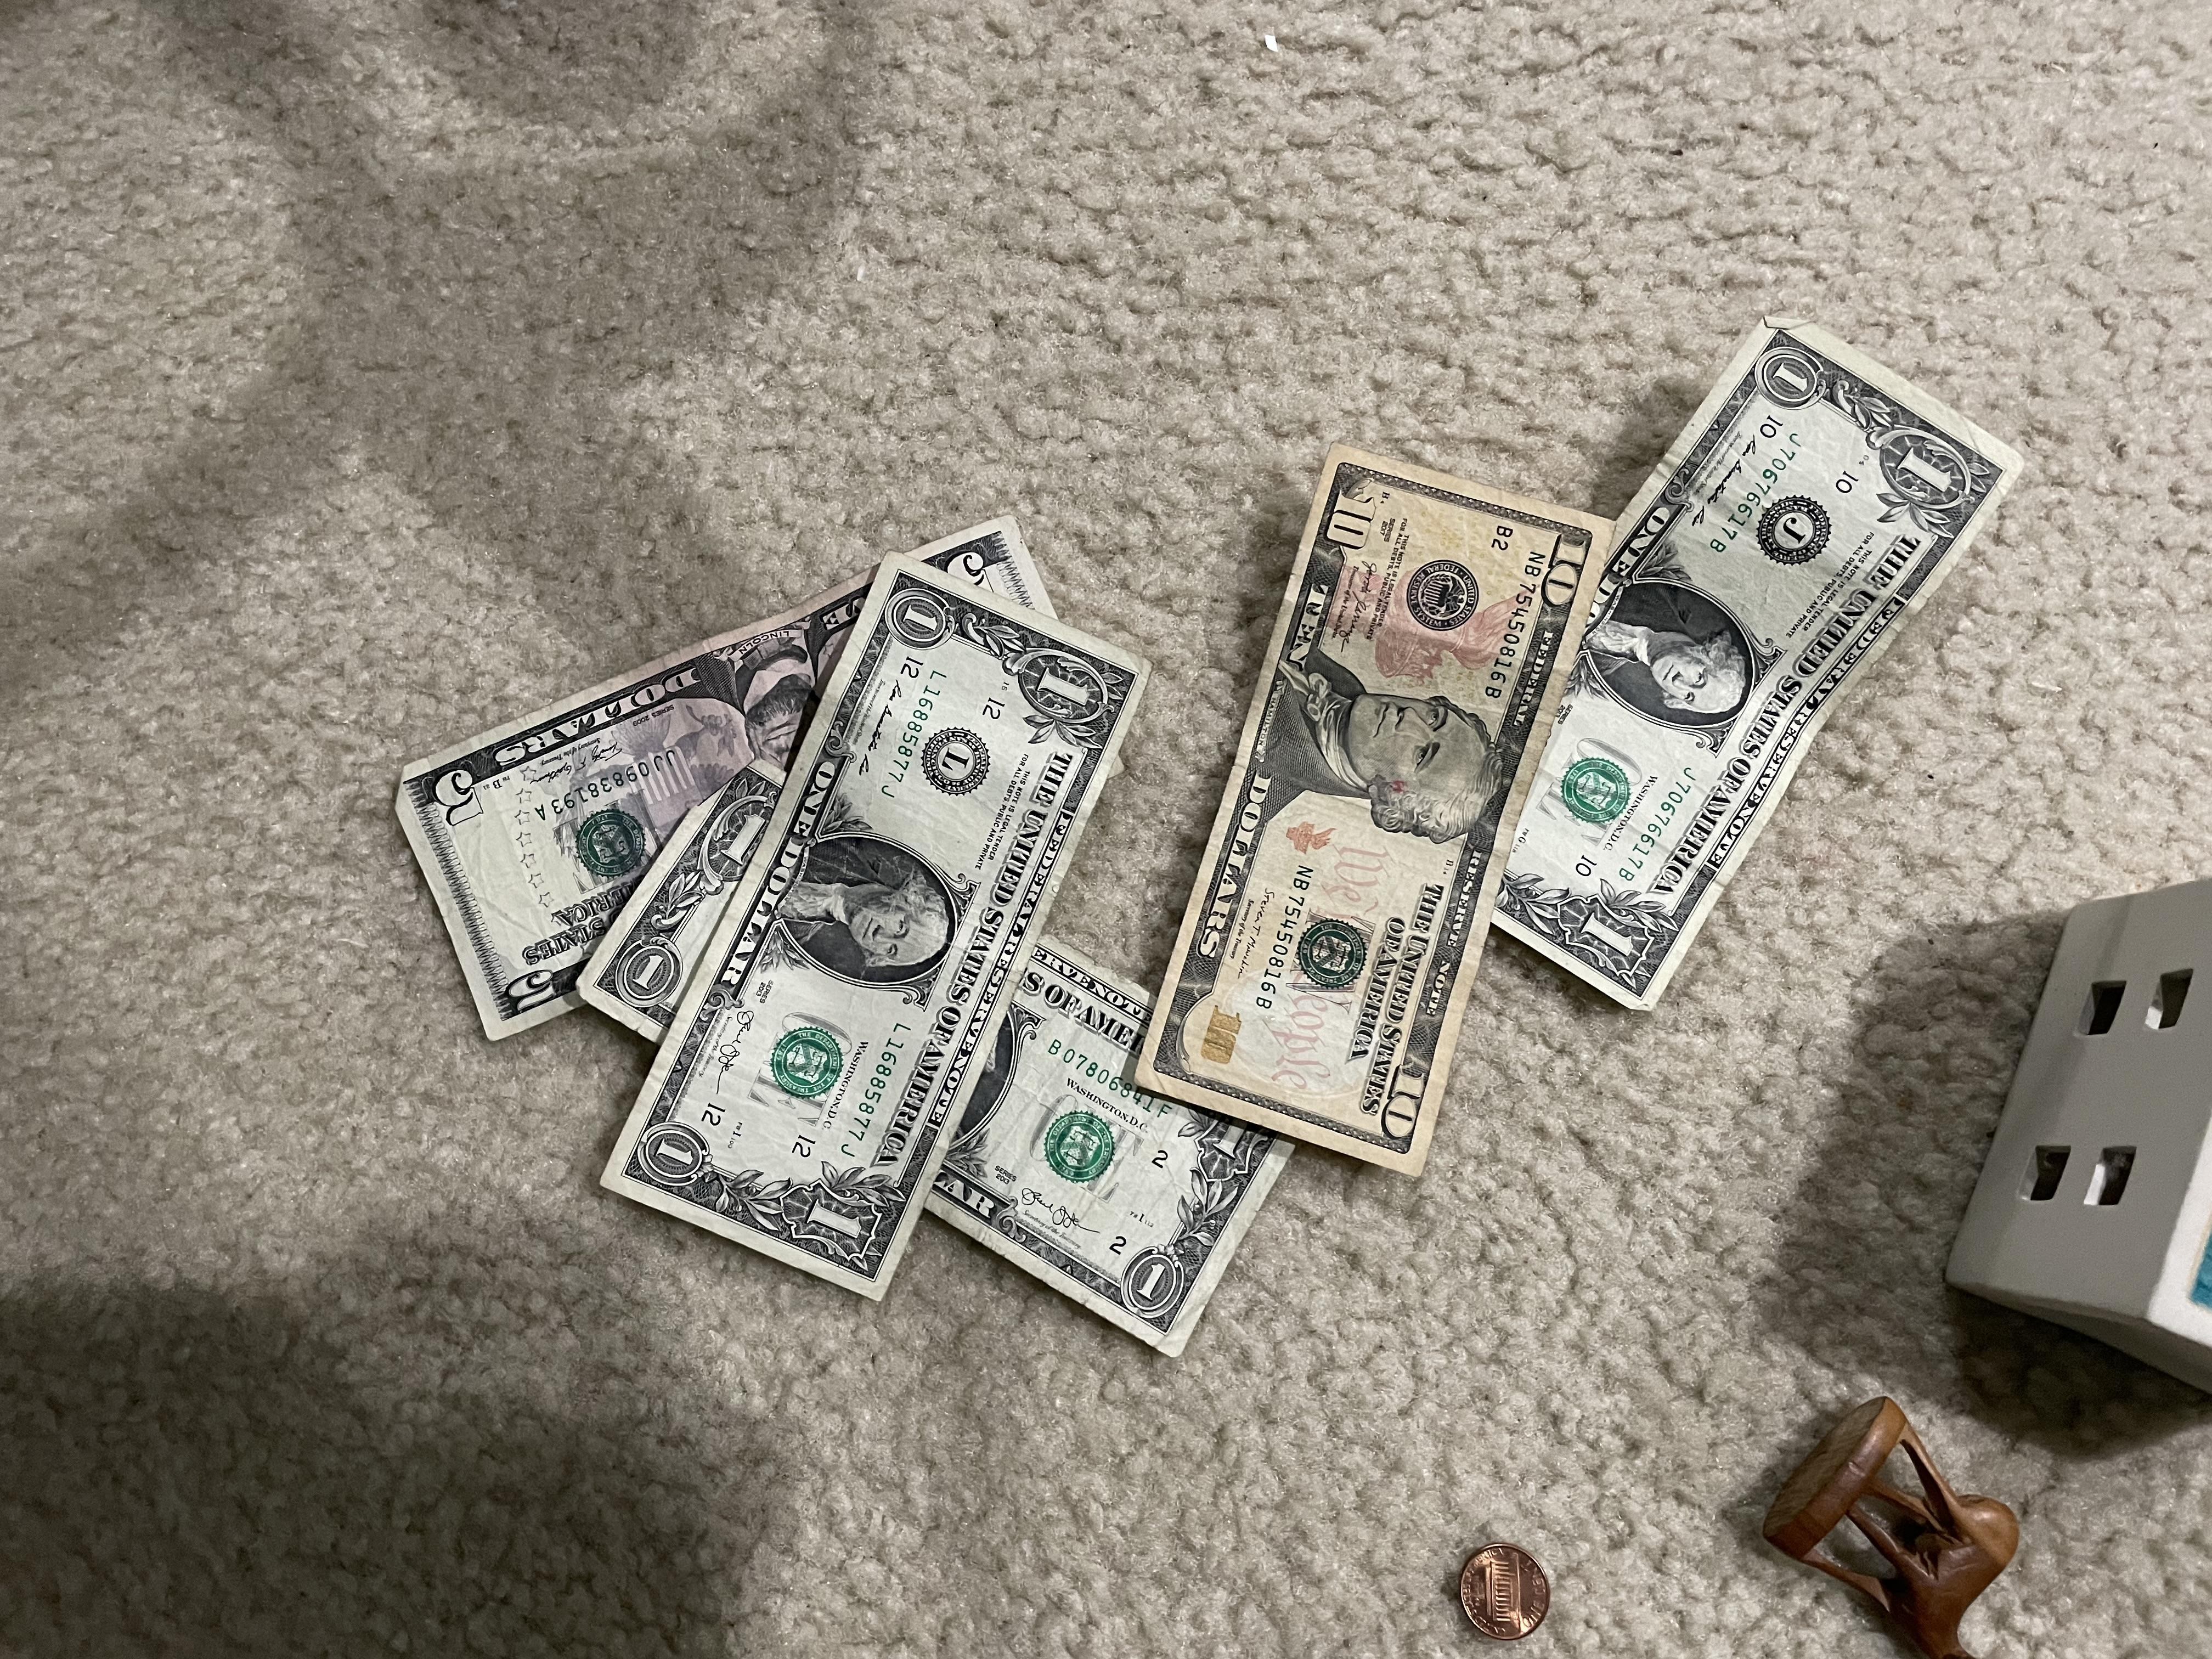FiveBill: (394, 511, 1108, 1040)
OneBill: (1480, 305, 2034, 1070), (597, 554, 1144, 1302), (603, 774, 1310, 1351), (1432, 1537, 1599, 1640)
TenBill: (1143, 429, 1620, 1194)
